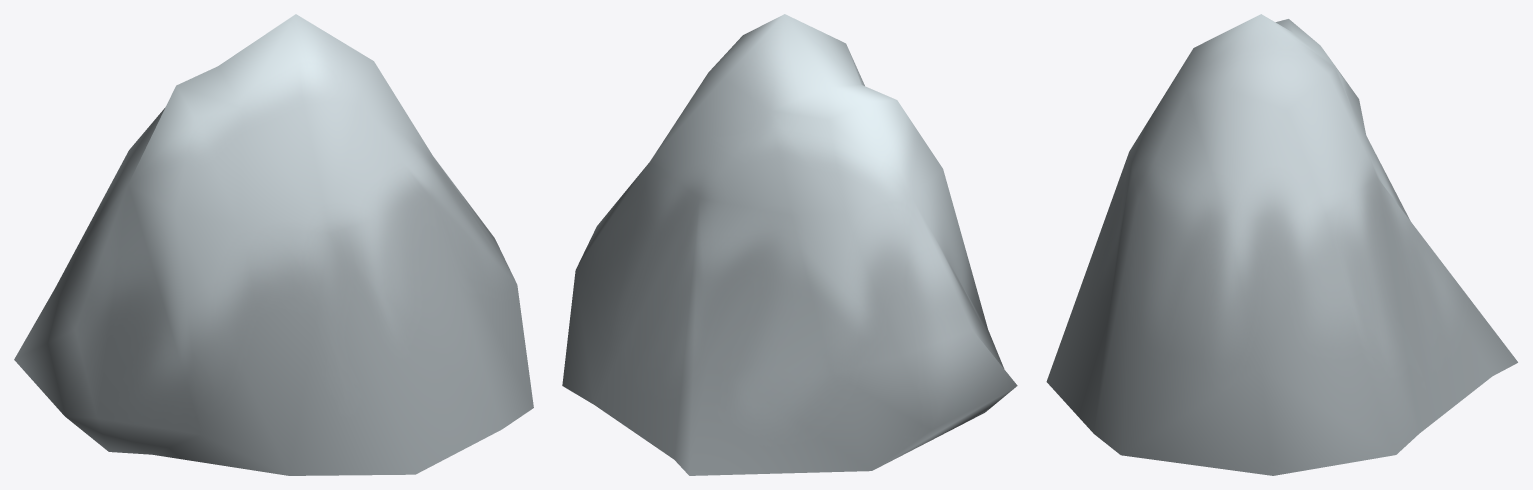
File: Rock.fbx
3 renders of one model, left to right at view 1: azimuth 30°, elevation 25°; view 2: azimuth 150°, elevation 25°; view 3: azimuth 270°, elevation 25°, orthographic. The views are drawn at different scales.
Parts seen in each view (by area): view 1: Cube; view 2: Cube; view 3: Cube.
Boxes of the visible parts, <box> form: Cube: <box>14,14,533,475</box>; Cube: <box>562,14,1017,475</box>; Cube: <box>1046,14,1517,475</box>.
Size of the model in its own units: 8.65 by 7.03 by 8.26.
1 material, 1 textured.
